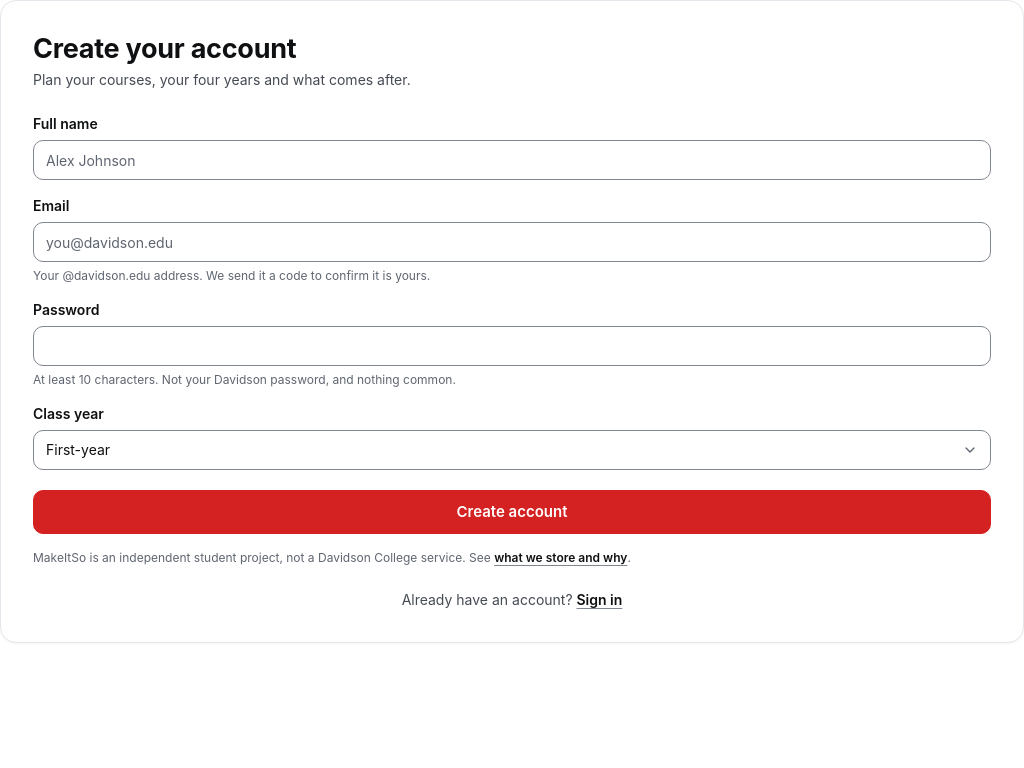
Scenario: RegisterForm › announces field errors in an alert and focuses the first invalid field (review regression)
Click the button "Create account": click(512, 512) left=33, top=490, right=991, bottom=534
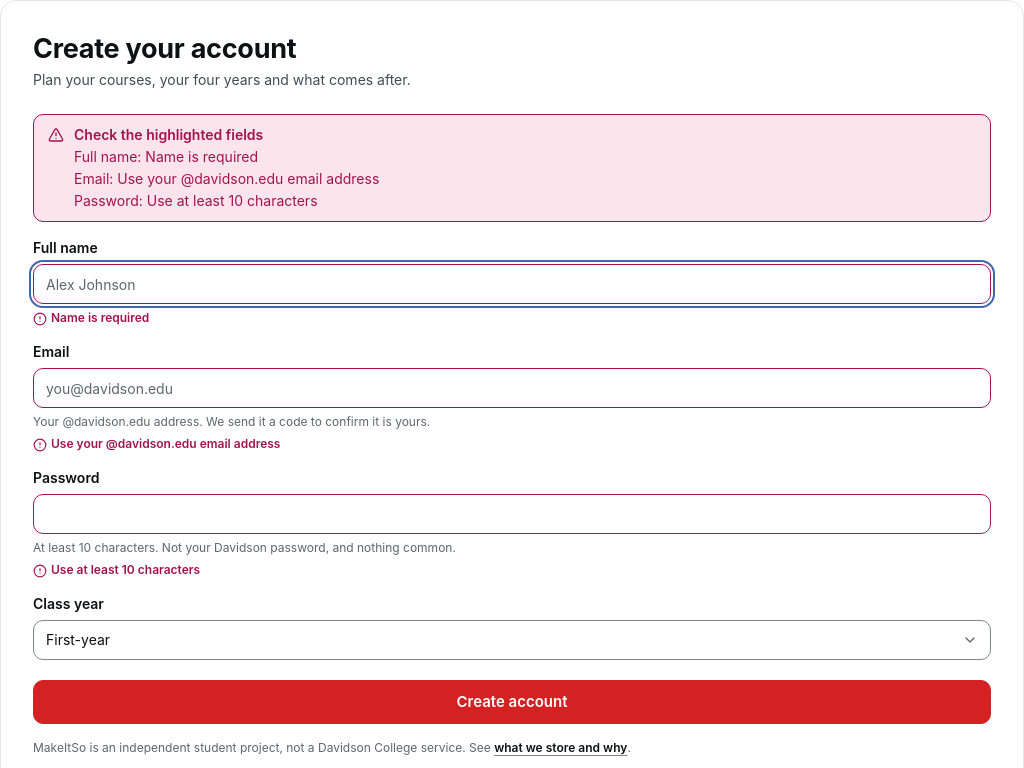
Result: the message shows "Check the highlighted fields" at left=74, top=126, right=263, bottom=143
Result: the message shows "Full name:" at left=33, top=114, right=991, bottom=222
Result: the message shows "Email:" at left=33, top=114, right=991, bottom=222
